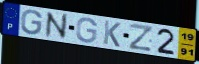2: (156, 28, 176, 57)
G: (20, 9, 44, 36), (75, 17, 99, 44)
K: (102, 19, 122, 49)
N: (45, 10, 69, 40)
Z: (128, 22, 154, 53)
